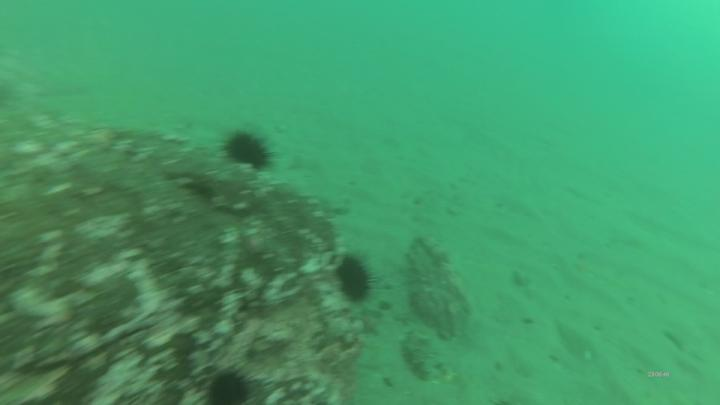echinus: (335, 255, 375, 305), (206, 366, 252, 405), (224, 133, 272, 170)
